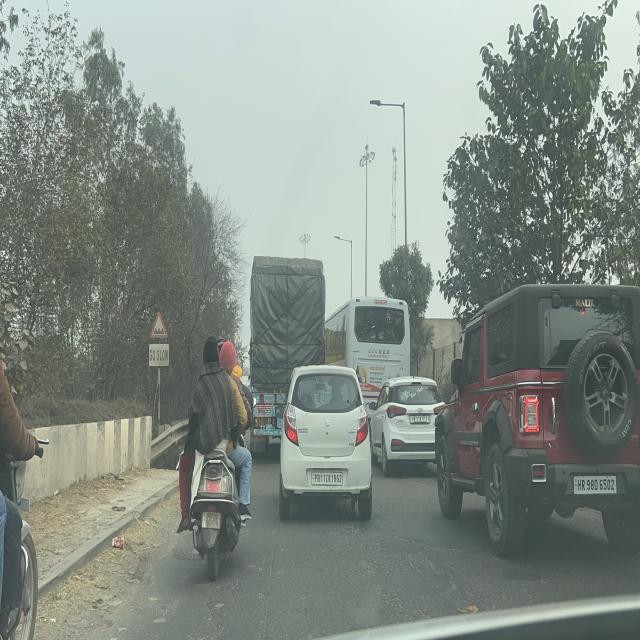HUMP_OR_ROUGH_ROAD: (150, 311, 168, 338)
